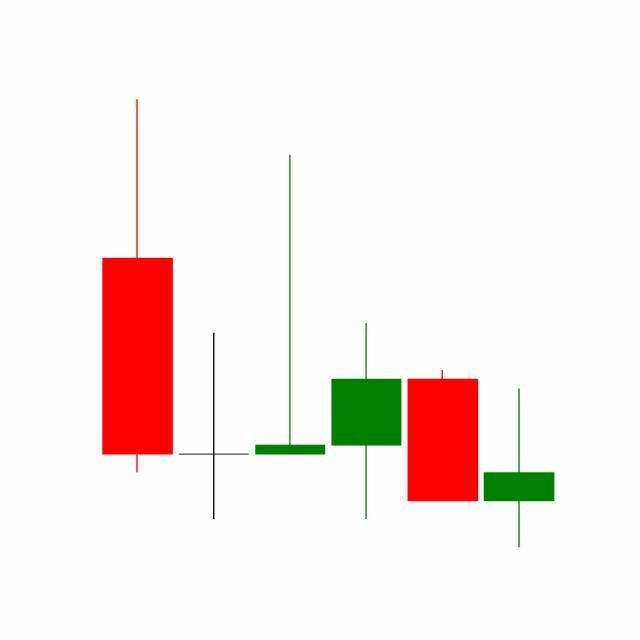Marubozu: (404, 369, 482, 503)
